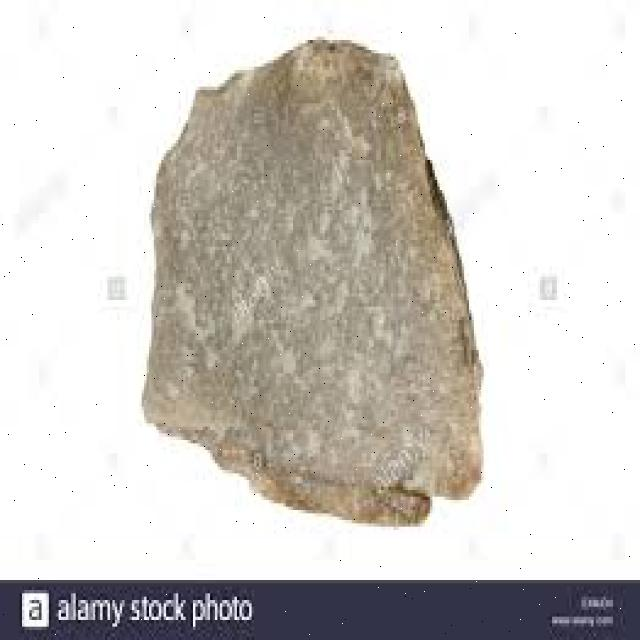Metamorphic: (149, 30, 493, 517)
